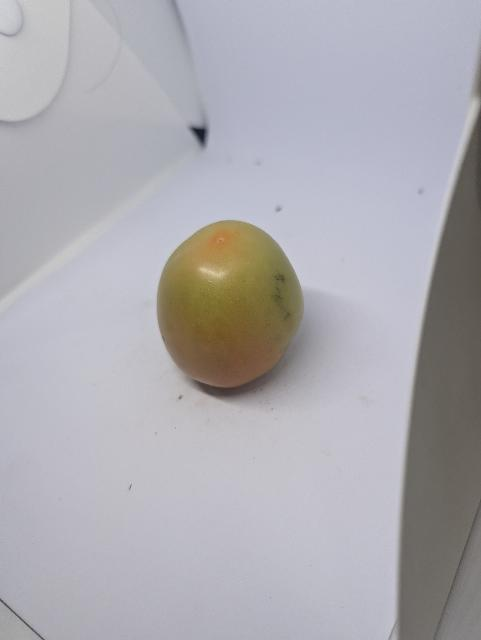breaker: (154, 209, 308, 397)
